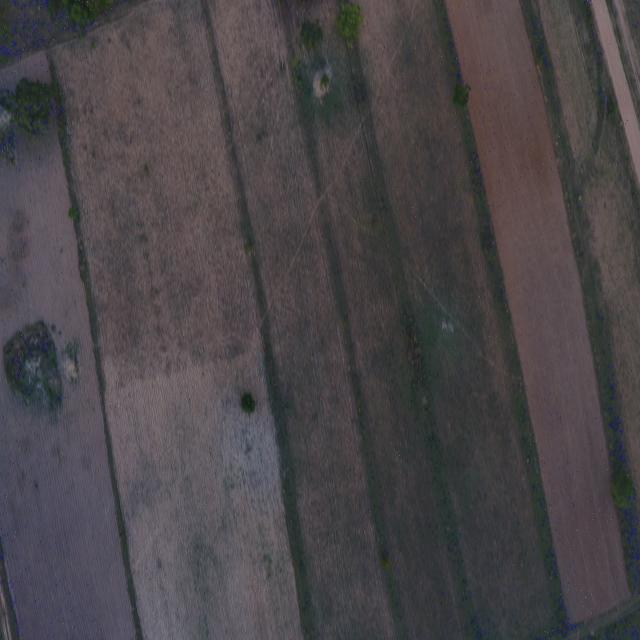boundaries: (434, 16, 576, 618), (203, 23, 324, 638), (38, 62, 150, 629)
